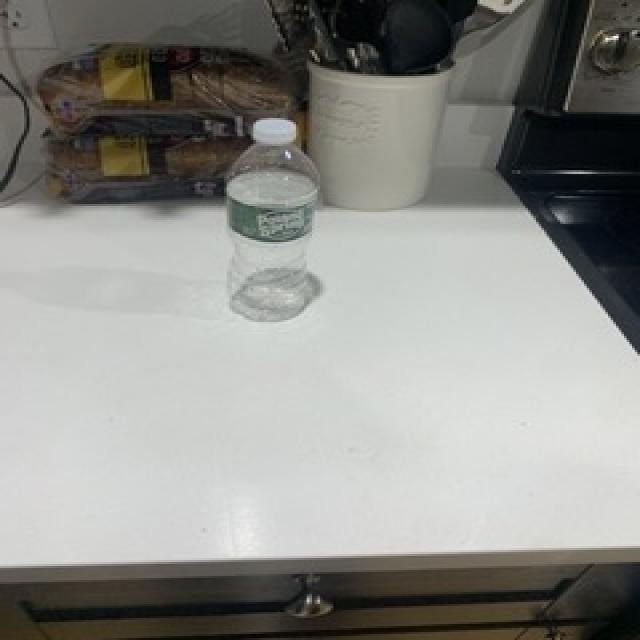water_bottle: (221, 115, 321, 321)
